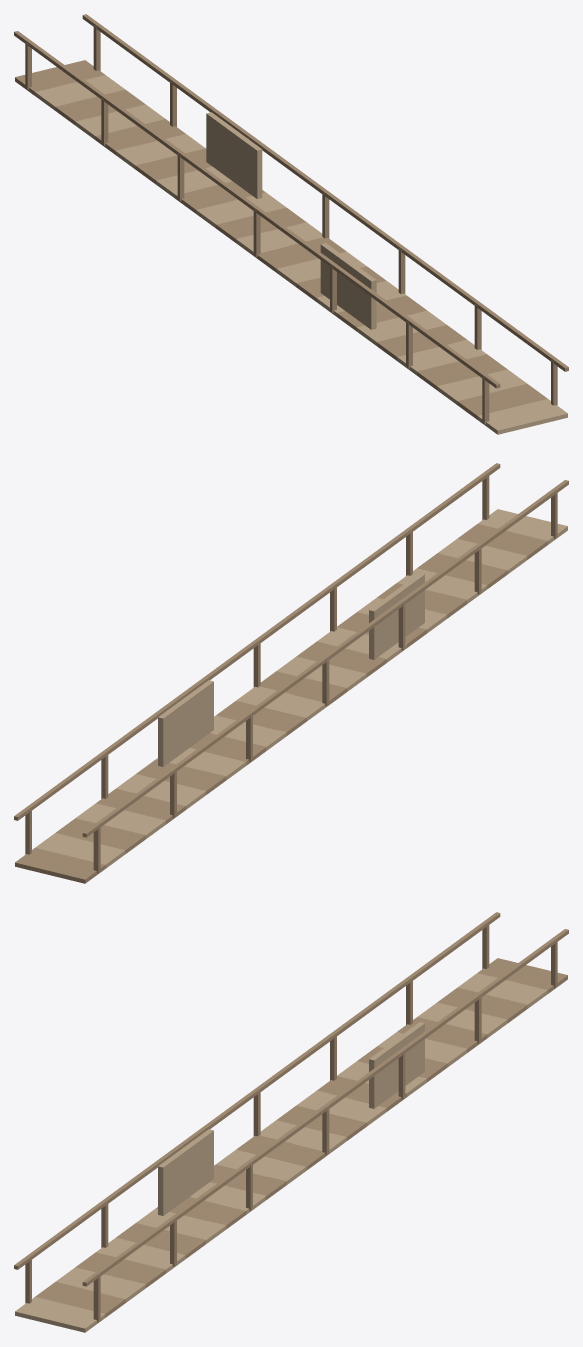
The model's file is Catwalk.glb.
3 renders of one model, top to bottom at view 1: azimuth 30°, elevation 25°; view 2: azimuth 150°, elevation 25°; view 3: azimuth 330°, elevation 25°, orthographic.
Visible parts, largest first — view 1: Catwalk; view 2: Catwalk; view 3: Catwalk.
Boxes of the visible parts, bbox=[...] form: Catwalk: bbox=[14, 14, 568, 434]; Catwalk: bbox=[14, 463, 568, 883]; Catwalk: bbox=[14, 912, 568, 1332].
Bounding box in the file's own units: 1.66 × 1.15 × 19.02.
